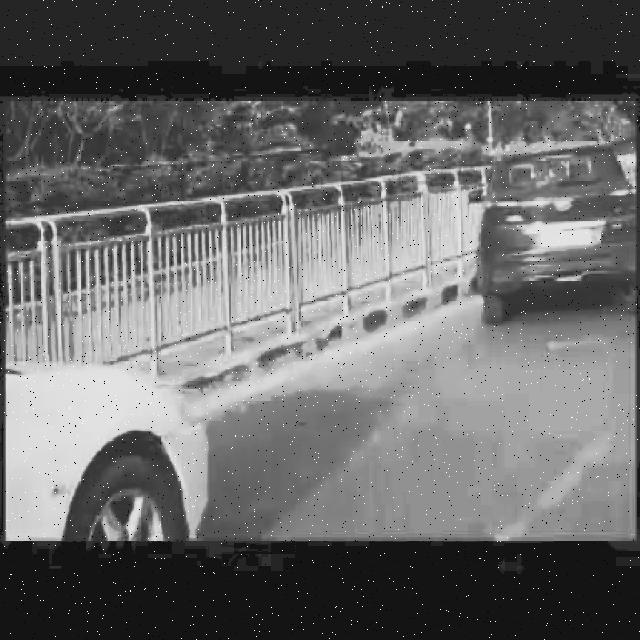Car: (3, 352, 219, 548), (462, 135, 638, 338)
